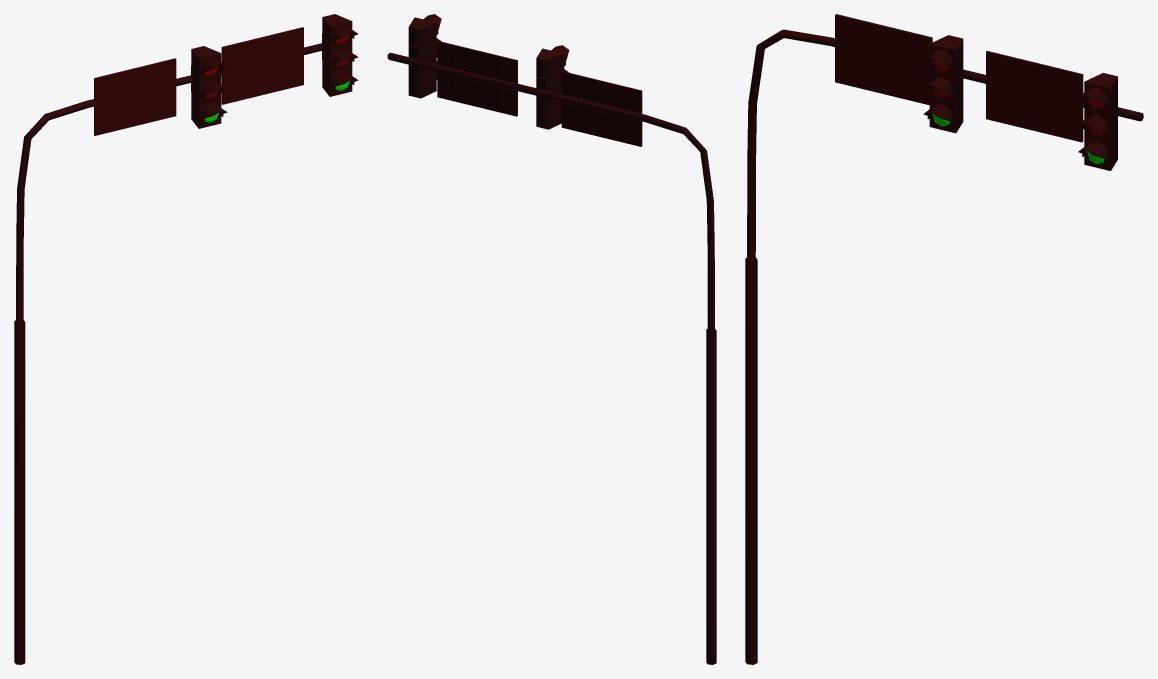
File: TrafficLight002.glb
3 views of the same model, side by side, from view 1: azimuth 30°, elevation 25°; view 2: azimuth 150°, elevation 25°; view 3: azimuth 330°, elevation 25° (orthographic). The views are drawn at different scales.
Parts seen in each view (by area): view 1: TrafficLight002; view 2: TrafficLight002; view 3: TrafficLight002.
Boxes of the visible parts, x1,y1,x2,y2 form: TrafficLight002: (14,14,358,664); TrafficLight002: (387,14,716,664); TrafficLight002: (745,14,1143,664).
Size of the model in its own units: 23.88 by 39.06 by 3.29.
